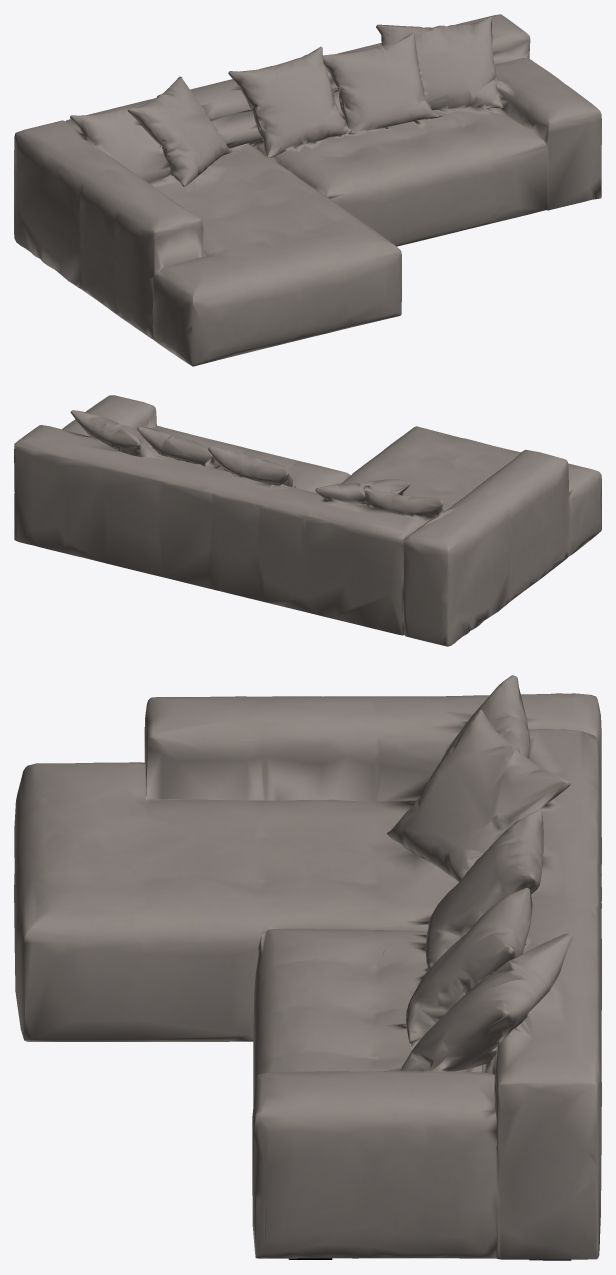
The model's file is couch.glb.
3 renders of one model, top to bottom at view 1: azimuth 30°, elevation 25°; view 2: azimuth 150°, elevation 25°; view 3: azimuth 270°, elevation 25°, orthographic. The views are drawn at different scales.
Parts seen in each view (by area): view 1: world; view 2: world; view 3: world.
Part boxes in pixels (left/top/right/bottom): world: left=14, top=14, right=601, bottom=366; world: left=14, top=395, right=601, bottom=646; world: left=14, top=675, right=601, bottom=1260.
Bounding box in the file's own units: 0.9966 × 0.2813 × 0.6292.
Materials: 1 (1 with a texture image).
